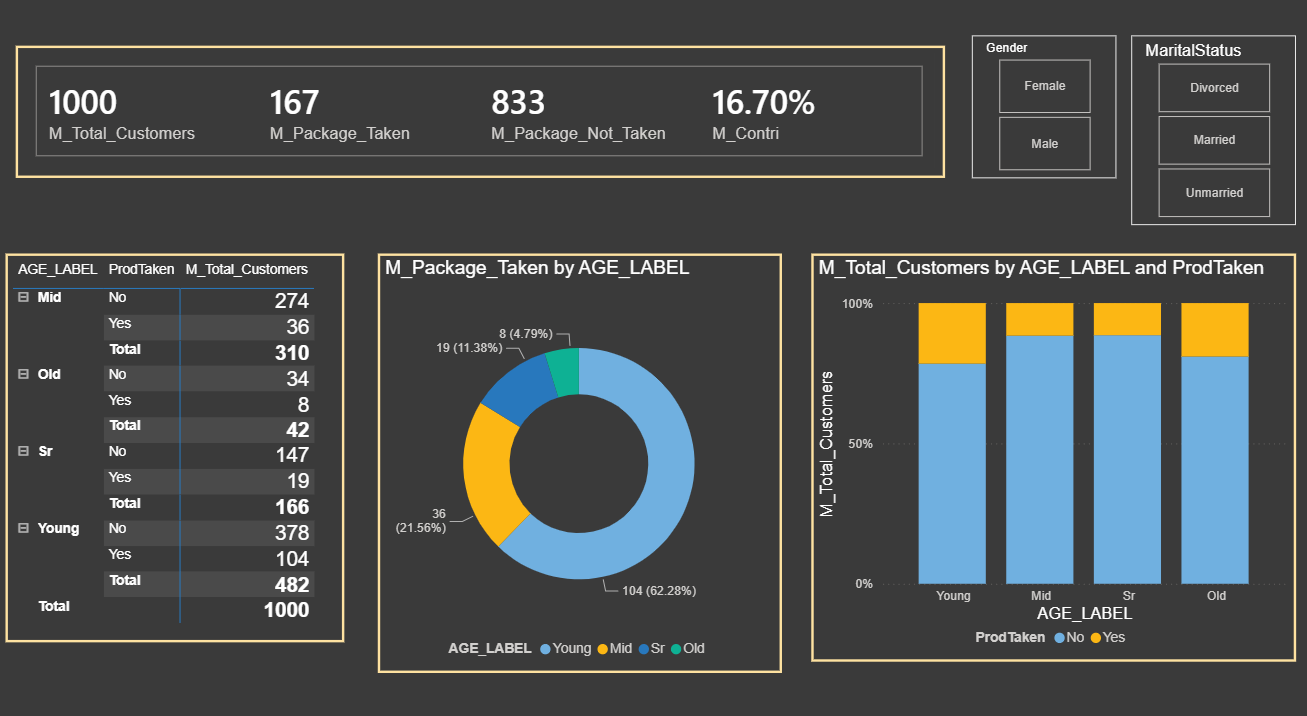

The page's visual inventory and layout, read from the dashboard file:
{"tool":"powerbi","page":{"name":"Age","canvas":[1280,720],"ordinal":3},"visuals":[{"type":"cardVisual","fields":{"Data":["Tour_Data.M_Total_Customers","Tour_Data.M_Package_Taken","Tour_Data.M_Package_Not_Taken","Tour_Data.M_Contri"]},"box":[21.1,57,903.6,128.9],"z":0},{"type":"slicer","fields":{"Values":["Tour_Data.Gender"]},"box":[950.7,47.1,140.1,138.8],"z":1000},{"type":"slicer","fields":{"Values":["Tour_Data.MaritalStatus"]},"box":[1105.6,47.1,159.9,184.7],"z":2000},{"type":"pivotTable","fields":{"Rows":["Tour_Data.AGE_LABEL","Tour_Data.ProdTaken"],"Values":["Tour_Data.M_Total_Customers"]},"box":[11.2,259.1,329.7,378],"z":3000},{"type":"donutChart","fields":{"Y":["Tour_Data.M_Package_Taken"],"Category":["Tour_Data.AGE_LABEL"]},"box":[373.1,259.1,392.9,407.8],"z":4000},{"type":"hundredPercentStackedColumnChart","fields":{"Category":["Tour_Data.AGE_LABEL"],"Y":["Tour_Data.M_Total_Customers"],"Series":["Tour_Data.ProdTaken"]},"box":[794.5,259.1,471,396.6],"z":5000}]}

Visuals, with their boxes in screenshot pixels (x1, y1, x2, y2), scaled from the page's 1280x720 canvas onto the 1307x716 screenshot:
cardVisual - Tour_Data.M_Total_Customers x Tour_Data.M_Package_Taken: box(22, 57, 944, 185)
slicer - Tour_Data.Gender: box(971, 47, 1114, 185)
slicer - Tour_Data.MaritalStatus: box(1129, 47, 1292, 231)
pivotTable - Tour_Data.AGE_LABEL x Tour_Data.ProdTaken: box(11, 258, 348, 634)
donutChart - Tour_Data.M_Package_Taken x Tour_Data.AGE_LABEL: box(381, 258, 782, 663)
hundredPercentStackedColumnChart - Tour_Data.AGE_LABEL x Tour_Data.M_Total_Customers: box(811, 258, 1292, 652)
